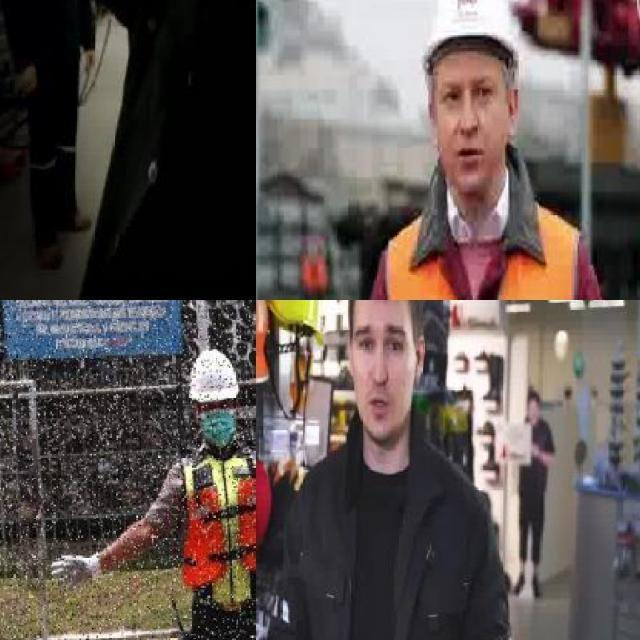apron: (48, 548, 104, 596)
